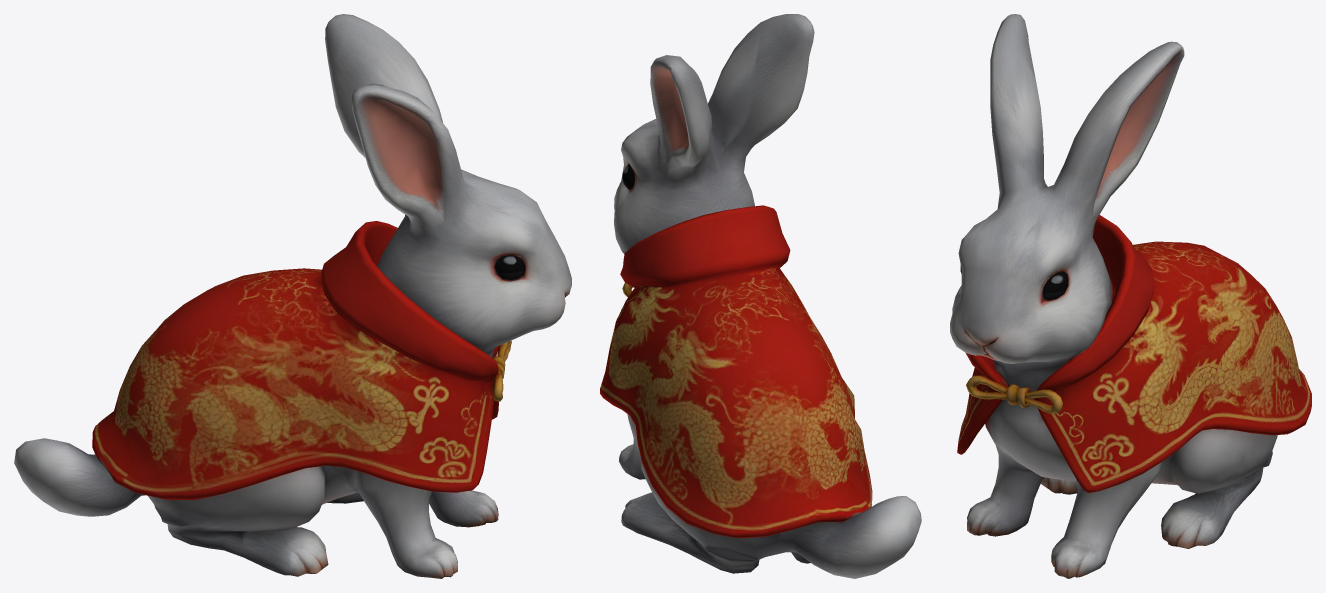
The picture shows the model from 3 angles, left to right: view 1: azimuth 30°, elevation 25°; view 2: azimuth 150°, elevation 25°; view 3: azimuth 270°, elevation 25°; orthographic projection. The views are drawn at different scales.
Visible parts, largest first — view 1: tripo_node_f3b50612-5a36-4e6a-8726-1f893d9aecef; view 2: tripo_node_f3b50612-5a36-4e6a-8726-1f893d9aecef; view 3: tripo_node_f3b50612-5a36-4e6a-8726-1f893d9aecef.
Part boxes in pixels (x1,y1,x2,y2): tripo_node_f3b50612-5a36-4e6a-8726-1f893d9aecef: (14,14,571,578); tripo_node_f3b50612-5a36-4e6a-8726-1f893d9aecef: (600,14,921,578); tripo_node_f3b50612-5a36-4e6a-8726-1f893d9aecef: (950,14,1311,578).
Size of the model in its own units: 0.9082 by 0.998 by 0.6699.
1 material, 1 textured.
